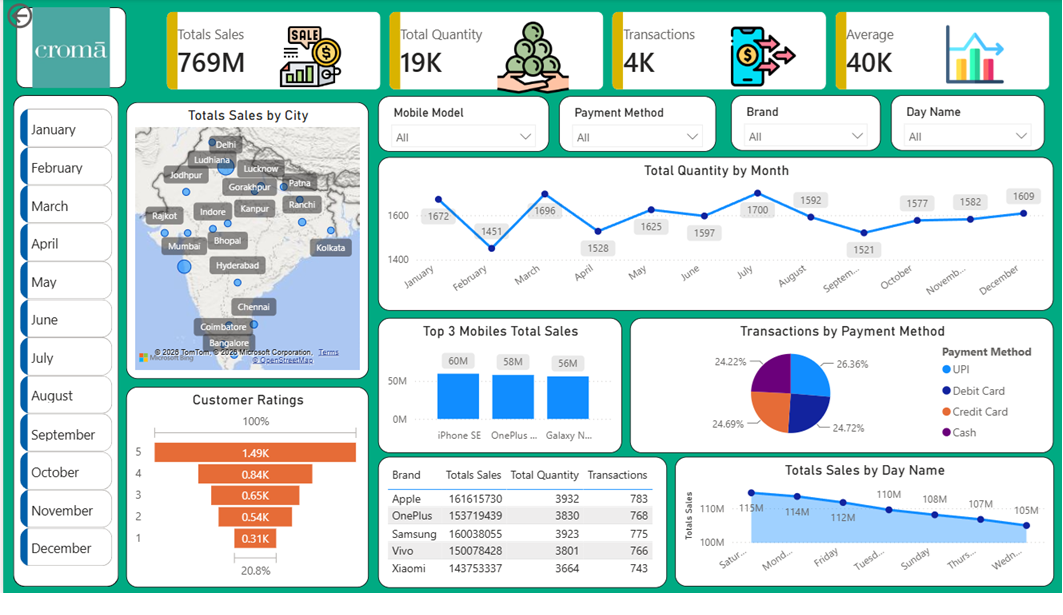

The page's visual inventory and layout, read from the dashboard file:
{"tool":"powerbi","page":{"name":"Page 1","canvas":[1280,720],"ordinal":0},"visuals":[{"type":"shape","box":[15.7,9.7,132.7,97.7],"z":0},{"type":"image","box":[2.4,9.7,159.3,97.7],"z":1000},{"type":"shape","box":[12.5,116.2,127.5,593.8],"z":2000},{"type":"advancedSlicerVisual","fields":{"Values":["Mobile_Sales_Dashboard.Date.Variation.Date Hierarchy.Month"]},"box":[16.2,107.5,121.2,603.8],"z":3000},{"type":"cardVisual","fields":{"Data":["Mobile_Sales_Dashboard.Totals Sales","Mobile_Sales_Dashboard.Total Quantity","Mobile_Sales_Dashboard.Transactions","Mobile_Sales_Dashboard.Average"]},"box":[182.2,0,1097.9,124.3],"z":4000},{"type":"image","box":[332.5,31.2,76.2,76.2],"z":5000},{"type":"image","box":[586.2,23.8,106.2,92.5],"z":6000},{"type":"image","box":[878.8,7.5,78.8,123.8],"z":7000},{"type":"image","box":[1115,31.2,116.2,70],"z":8000},{"type":"map","fields":{"Category":["Mobile_Sales_Dashboard.City"],"Size":["Mobile_Sales_Dashboard.Totals Sales"]},"box":[148.4,124.3,293.2,334.2],"z":9000},{"type":"lineChart","fields":{"Y":["Mobile_Sales_Dashboard.Total Quantity"],"Category":["Mobile_Sales_Dashboard.Date.Variation.Date Hierarchy.Month","Mobile_Sales_Dashboard.Date.Variation.Date Hierarchy.Day"]},"box":[452.4,190.6,815.6,185.8],"z":10000},{"type":"clusteredColumnChart","title":"Top 3 Mobiles Total Sales","fields":{"Y":["Mobile_Sales_Dashboard.Totals Sales"],"Category":["Mobile_Sales_Dashboard.Mobile Model"]},"box":[452.4,384.9,294.4,162.9],"z":11000},{"type":"pieChart","fields":{"Category":["Mobile_Sales_Dashboard.Payment Method"],"Y":["Mobile_Sales_Dashboard.Transactions"]},"box":[756.4,384.9,511.5,162.9],"z":12000},{"type":"funnel","title":"Customer Ratings","fields":{"Category":["Mobile_Sales_Dashboard.Customer Ratings"],"Y":["CountNonNull(Mobile_Sales_Dashboard.Customer Ratings)"]},"box":[148.4,468.1,293.2,242.5],"z":13000},{"type":"areaChart","fields":{"Category":["Mobile_Sales_Dashboard.Day Name.1"],"Y":["Mobile_Sales_Dashboard.Totals Sales"]},"box":[810.7,552.5,457.2,156.8],"z":14000},{"type":"tableEx","fields":{"Values":["Mobile_Sales_Dashboard.Brand","Mobile_Sales_Dashboard.Totals Sales","Mobile_Sales_Dashboard.Total Quantity","Mobile_Sales_Dashboard.Transactions"]},"box":[452.4,552.5,348.7,158],"z":15000},{"type":"slicer","fields":{"Values":["Mobile_Sales_Dashboard.Mobile Model"]},"box":[452.4,117,206.3,67.6],"z":16000},{"type":"slicer","fields":{"Values":["Mobile_Sales_Dashboard.Payment Method"]},"box":[670.8,117,189.4,67.6],"z":17000},{"type":"slicer","fields":{"Values":["Mobile_Sales_Dashboard.Brand"]},"box":[878.3,115.8,181,67.6],"z":18000},{"type":"slicer","fields":{"Values":["Mobile_Sales_Dashboard.Day Name"]},"box":[1071.3,115.8,185.8,67.6],"z":19000},{"type":"actionButton","box":[0,0,100,40],"z":20000}]}

Visuals, with their boxes in screenshot pixels (x1, y1, x2, y2), scaled from the page's 1280x720 canvas onto the 1063x615 screenshot:
shape: 13:8:123:92
image: 2:8:134:92
shape: 10:99:116:606
advancedSlicerVisual - Mobile_Sales_Dashboard.Date.Variation.Date Hierarchy.Month: 13:92:114:608
cardVisual - Mobile_Sales_Dashboard.Totals Sales x Mobile_Sales_Dashboard.Total Quantity: 151:0:1062:106
image: 276:27:339:92
image: 487:20:575:99
image: 730:6:795:112
image: 926:27:1022:86
map - Mobile_Sales_Dashboard.City x Mobile_Sales_Dashboard.Totals Sales: 123:106:367:392
lineChart - Mobile_Sales_Dashboard.Total Quantity x Mobile_Sales_Dashboard.Date.Variation.Date Hierarchy.Month: 376:163:1053:322
"Top 3 Mobiles Total Sales" clusteredColumnChart: 376:329:620:468
pieChart - Mobile_Sales_Dashboard.Payment Method x Mobile_Sales_Dashboard.Transactions: 628:329:1053:468
"Customer Ratings" funnel: 123:400:367:607
areaChart - Mobile_Sales_Dashboard.Day Name.1 x Mobile_Sales_Dashboard.Totals Sales: 673:472:1053:606
tableEx - Mobile_Sales_Dashboard.Brand x Mobile_Sales_Dashboard.Totals Sales: 376:472:665:607
slicer - Mobile_Sales_Dashboard.Mobile Model: 376:100:547:158
slicer - Mobile_Sales_Dashboard.Payment Method: 557:100:714:158
slicer - Mobile_Sales_Dashboard.Brand: 729:99:880:157
slicer - Mobile_Sales_Dashboard.Day Name: 890:99:1044:157
actionButton: 0:0:83:34
